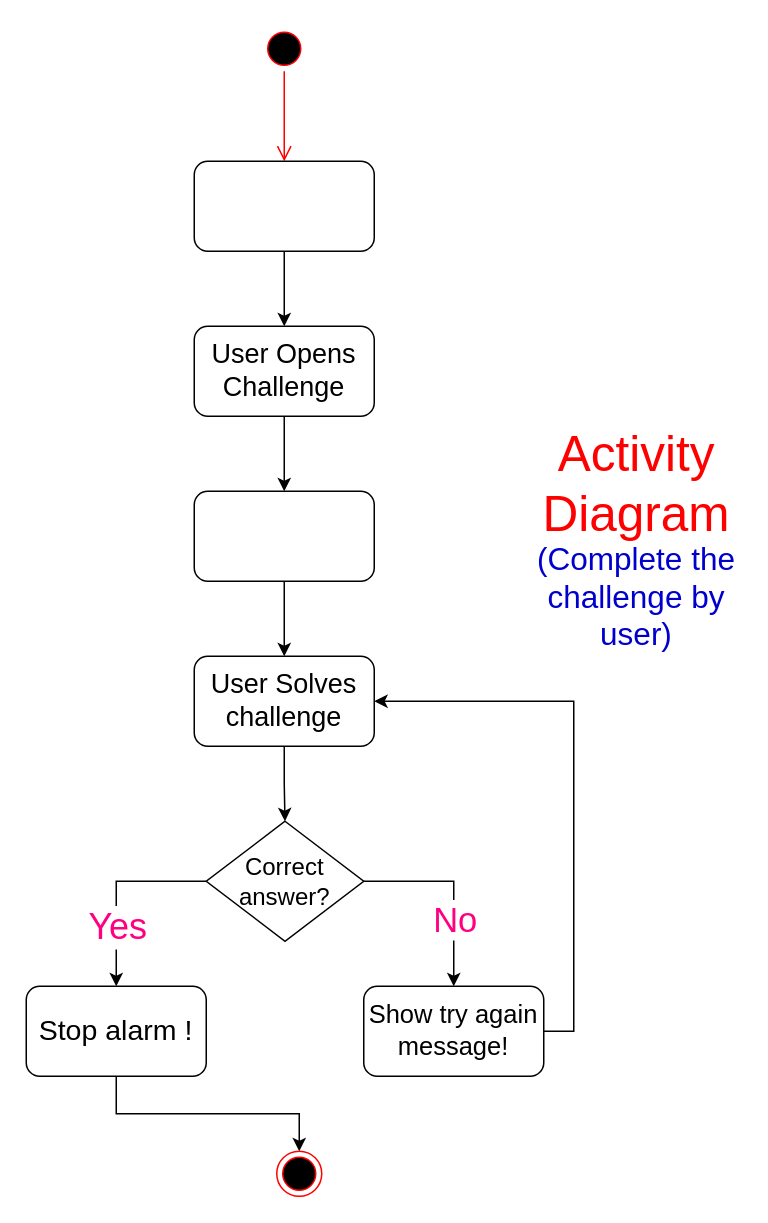
This 768x1223 diagram has some shape labels left out. Here are the shapes that lost their labels. From the top down, the centre of each, then its label:
At (283,205): "Alarm Rings".
At (283,535): "App shows challenge puzzle".
